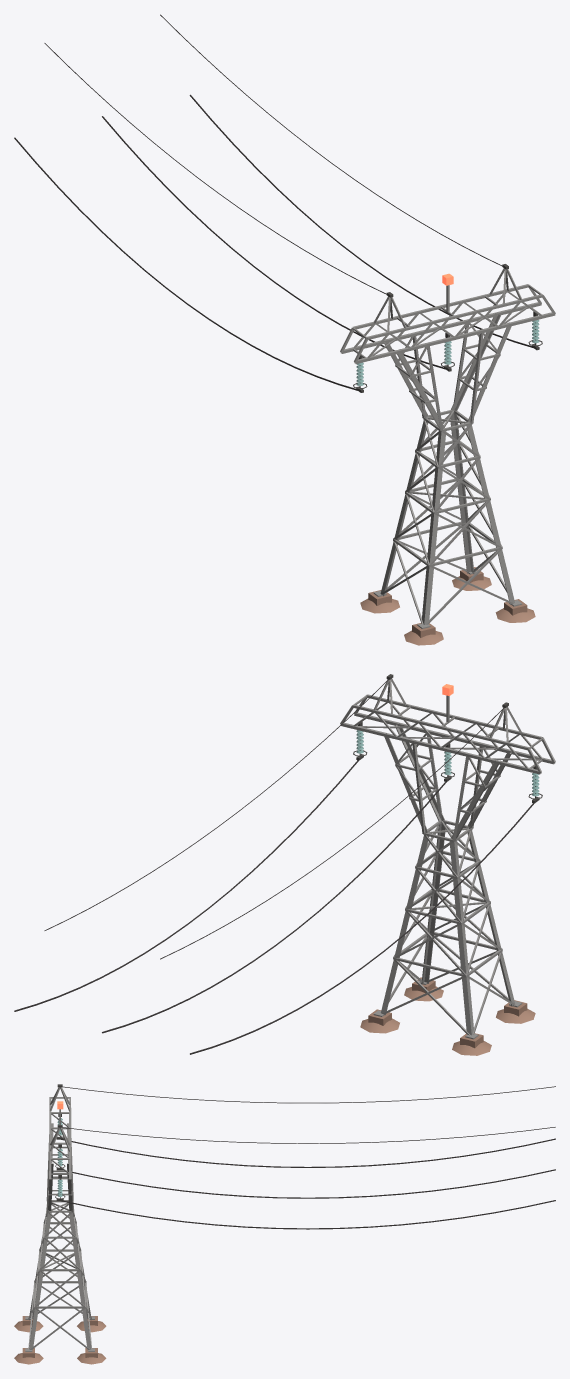
The model's file is pylon.glb.
3 renders of one model, top to bottom at view 1: azimuth 30°, elevation 25°; view 2: azimuth 150°, elevation 25°; view 3: azimuth 270°, elevation 25°, orthographic. The views are drawn at different scales.
Visible parts, largest first — view 1: pylon; view 2: pylon; view 3: pylon.
Part boxes in pixels (x1,y1,x2,y2): pylon: (14,14,555,645); pylon: (14,674,555,1055); pylon: (14,1084,555,1364).
Bounding box in the file's own units: 10.09 × 16.04 × 32.81.
